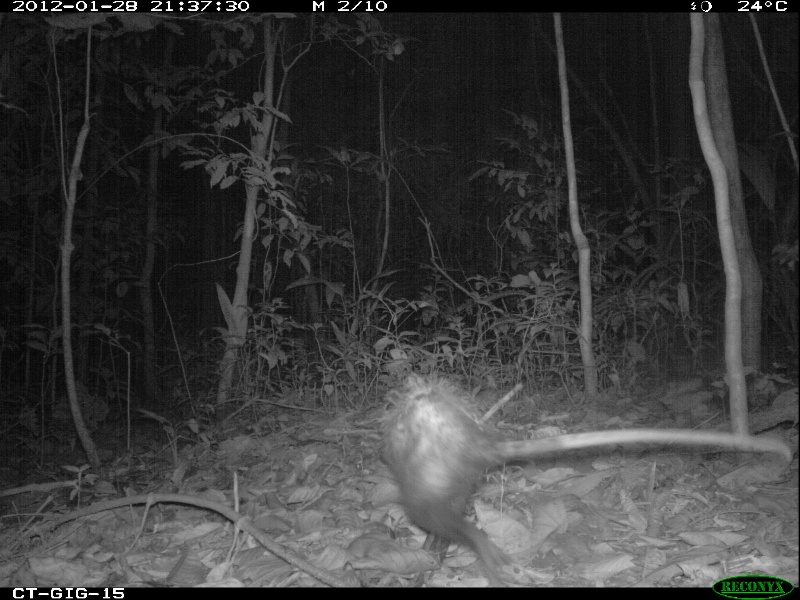opossum: (373, 376, 795, 565)
